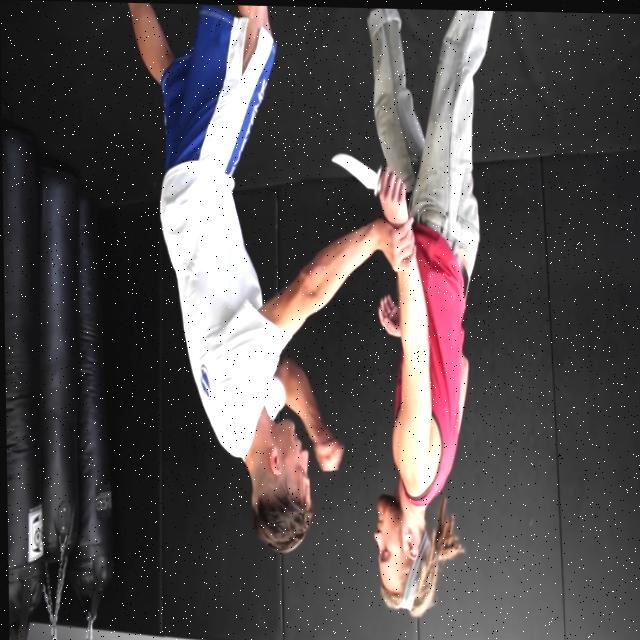knife: (330, 145, 381, 197)
